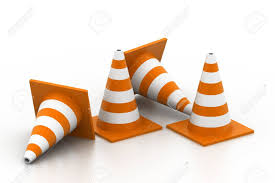cones: (167, 52, 255, 146), (92, 50, 164, 143), (118, 37, 193, 120), (26, 80, 95, 158)
